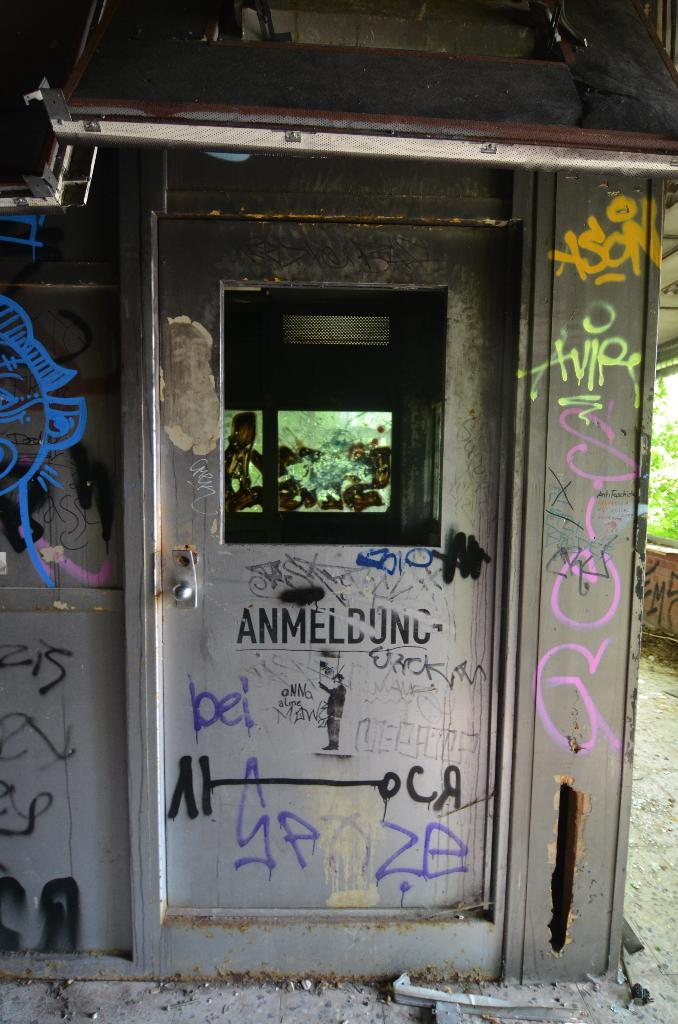handle: (173, 572, 196, 608)
